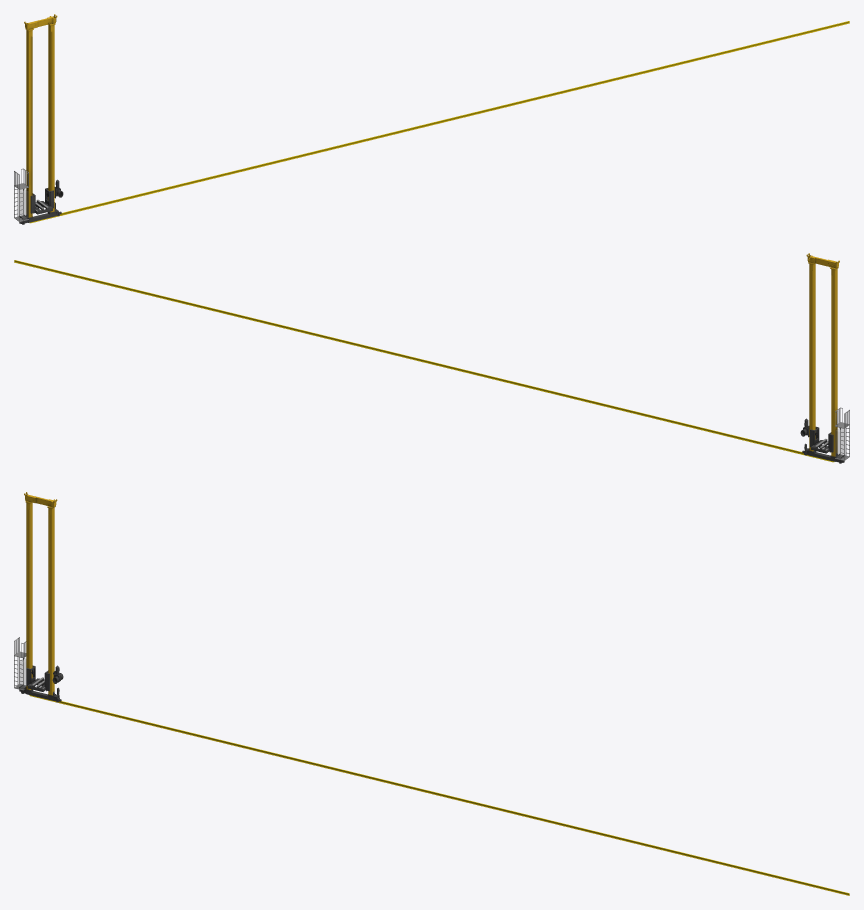
The model's file is SND_duiduoji.glb.
3 renders of one model, top to bottom at view 1: azimuth 30°, elevation 25°; view 2: azimuth 150°, elevation 25°; view 3: azimuth 330°, elevation 25°, orthographic.
Visible parts, largest first — view 1: Asset3DLoader.sceneRoot; view 2: Asset3DLoader.sceneRoot; view 3: Asset3DLoader.sceneRoot.
Boxes of the visible parts, <box> form: Asset3DLoader.sceneRoot: <box>14,14,849,224</box>; Asset3DLoader.sceneRoot: <box>14,253,849,463</box>; Asset3DLoader.sceneRoot: <box>14,492,849,895</box>.
Size of the model in its own units: 61140 by 14152 by 1307.
2 materials, 1 textured.
